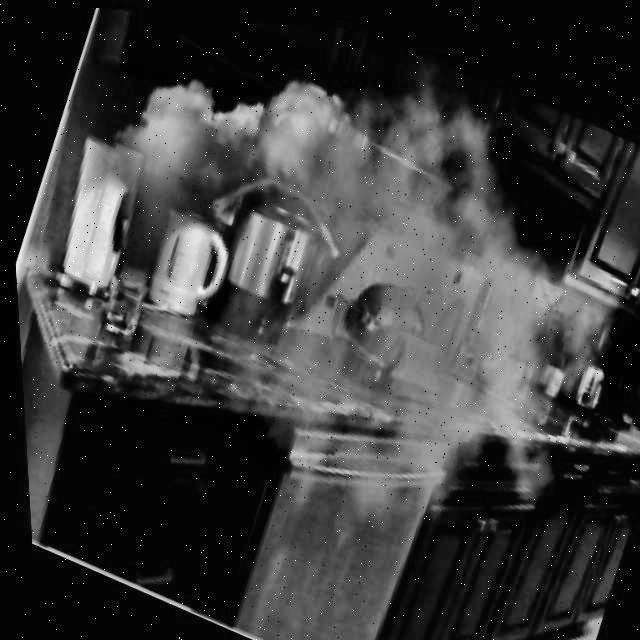Smoke: (18, 9, 640, 640)
